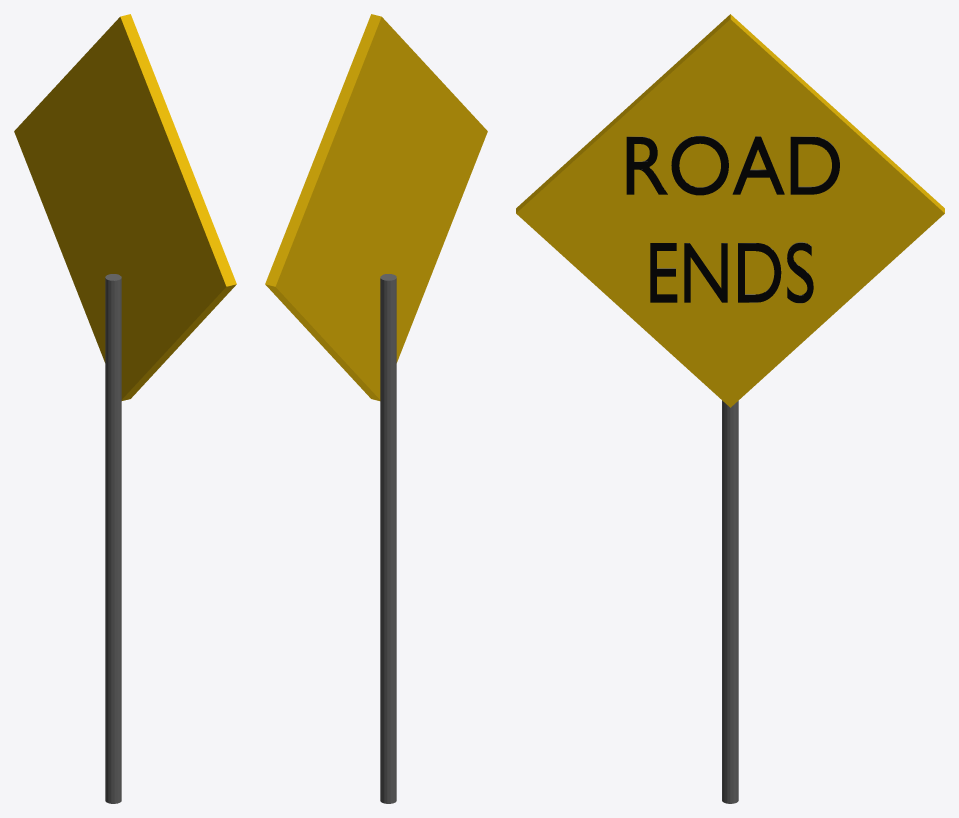
Rendered from EOTRSign.fbx.
3 renders of one model, left to right at view 1: azimuth 30°, elevation 25°; view 2: azimuth 150°, elevation 25°; view 3: azimuth 270°, elevation 25°, orthographic.
Visible parts, largest first — view 1: RoadEndsSign; view 2: RoadEndsSign; view 3: RoadEndsSign.
Boxes of the visible parts, x1,y1,x2,y2 form: RoadEndsSign: (14,14,236,803); RoadEndsSign: (265,14,487,803); RoadEndsSign: (516,14,944,803).
Bounding box in the file's own units: 19.65 × 575 × 283.
